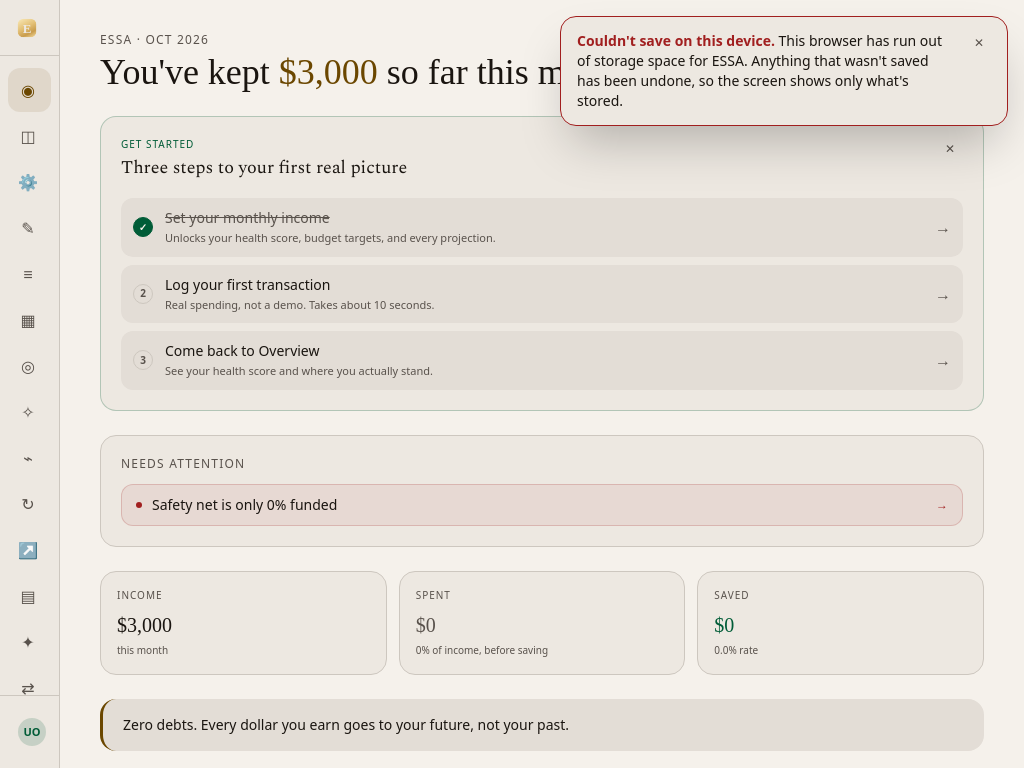
it: a save that fails tells the user (ERR-01) › a write refused on load is reported once, not retried in a loop, and dismissing it sticks
Expected: the message is shown, 560,16 -> 1008,126
Click the button named "Dismiss save error" at (979,43), box 967,31 -> 991,55
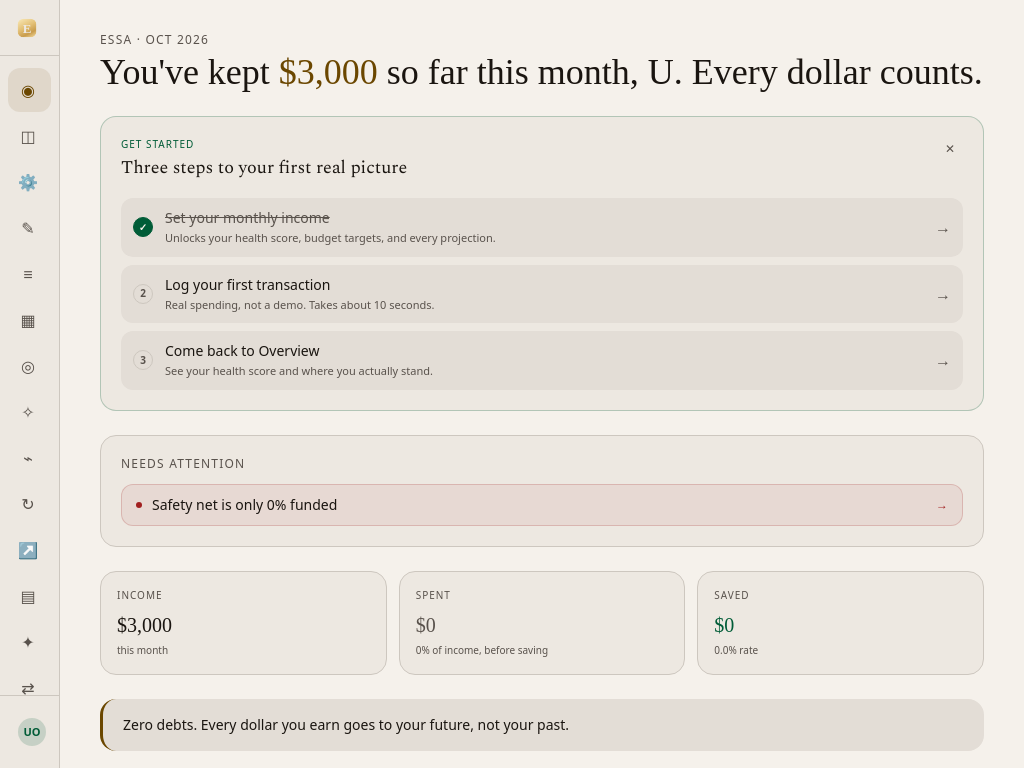
Result: the message is gone
